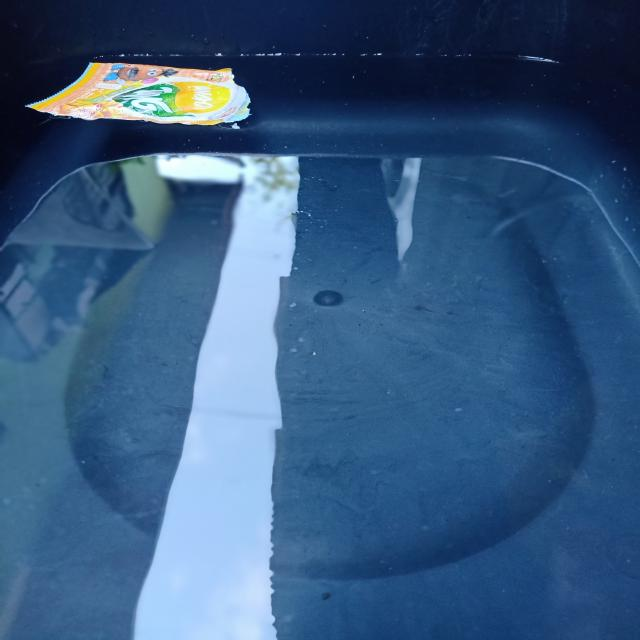Plastic Wrapper: (26, 48, 273, 150)
